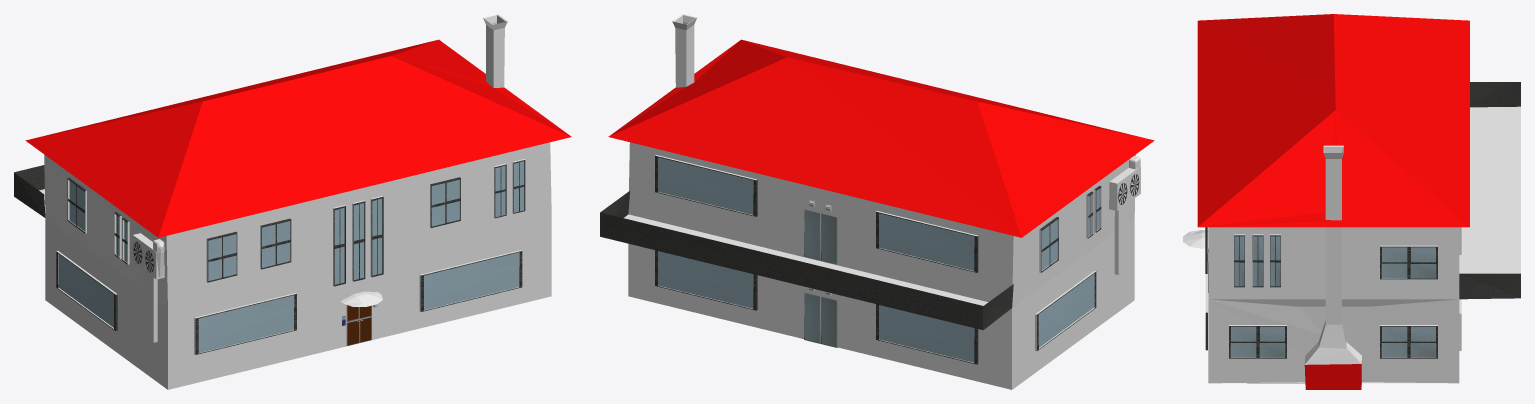
The model's file is BigHouse_HarunExportFix.fbx.
3 views of the same model, side by side, from view 1: azimuth 30°, elevation 25°; view 2: azimuth 150°, elevation 25°; view 3: azimuth 270°, elevation 25° (orthographic). The views are drawn at different scales.
Visible parts, largest first — view 1: polySurface8; view 2: polySurface8; view 3: polySurface8.
Boxes of the visible parts, left/top/right/bottom form: polySurface8: left=14, top=14, right=571, bottom=389; polySurface8: left=600, top=14, right=1154, bottom=389; polySurface8: left=1183, top=14, right=1520, bottom=389.
Bounding box in the file's own units: 16.75 × 8.97 × 11.55.
7 materials, 7 textured.
